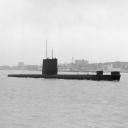submarine: (1, 59, 121, 83)
